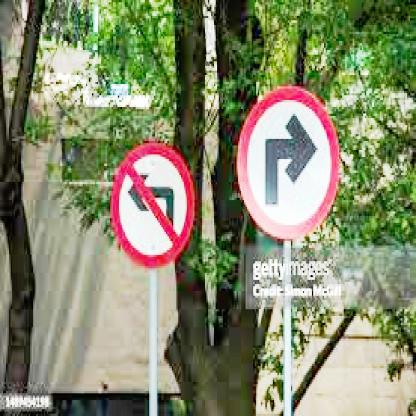No left turn: (110, 139, 195, 265)
